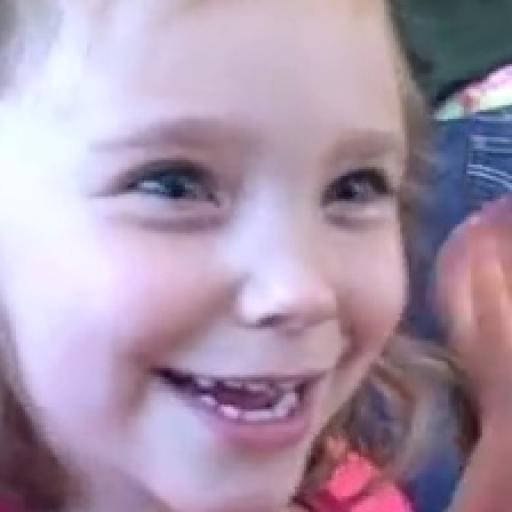Autism: (0, 7, 439, 510)
